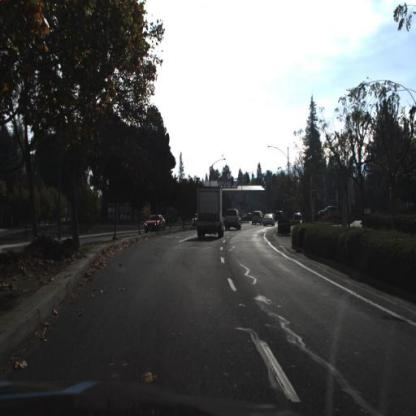car: (194, 184, 228, 240), (142, 213, 167, 233), (224, 207, 244, 232), (251, 211, 267, 227), (263, 210, 276, 229), (263, 213, 277, 229)
truck: (197, 186, 224, 239)
